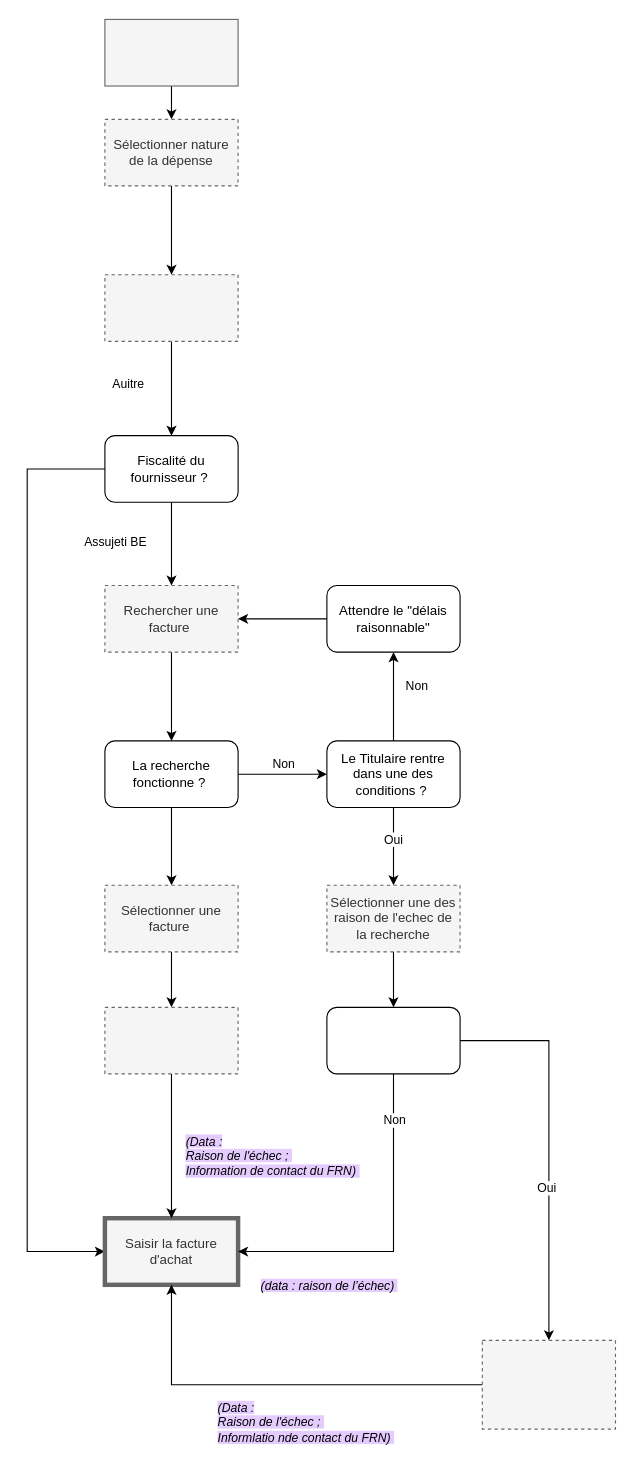
Image size: 635x1479. Some labels were removed from this diagram. The shapes that lost their labels are listed below. From the top down, each one's centre as x and y in pixels, then its label:
[171,52]: Ajouter une nouvelle facture d'achat
[171,307]: Sélectionner fiscalité du fournisseur
[171,1040]: [Automatique] Pré rempli formulaire
[393,1040]: Raison facture non trouvée après délais raisonable ?
[548,1384]: Champs libre : saisir in formation permettant de contacter le fournissuer
